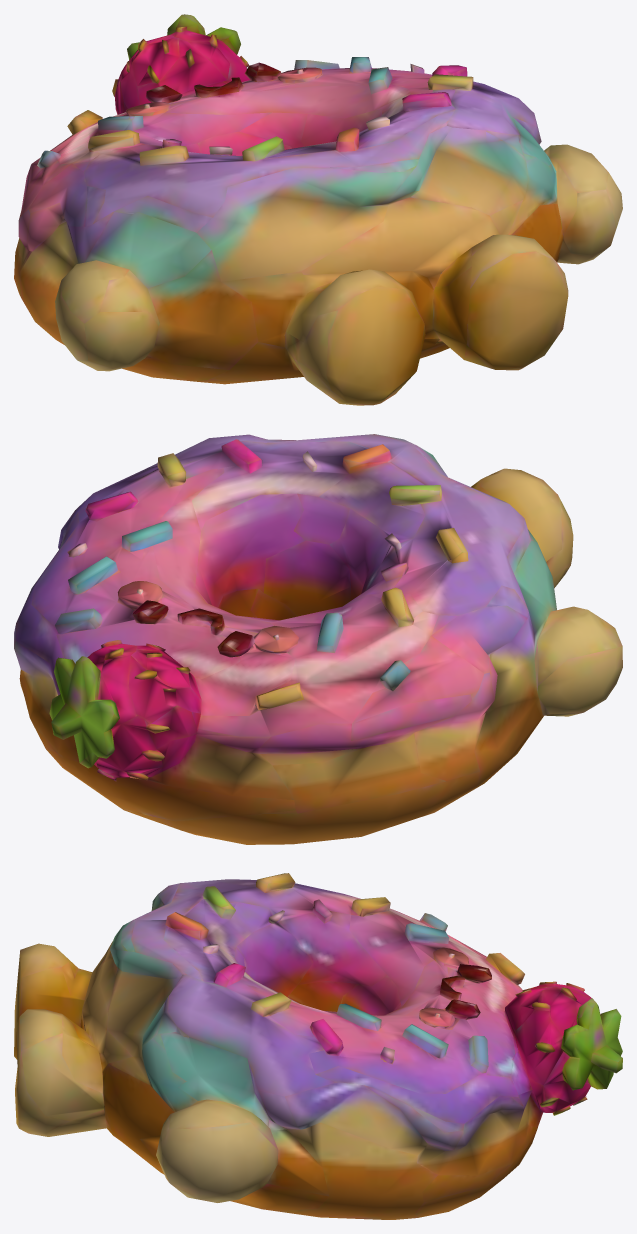
The picture shows the model from 3 angles, top to bottom: view 1: azimuth 30°, elevation 25°; view 2: azimuth 150°, elevation 25°; view 3: azimuth 270°, elevation 25°; orthographic projection. The views are drawn at different scales.
Visible parts, largest first — view 1: material; view 2: material; view 3: material.
Boxes of the visible parts, box(x1,y1,x2,y2) form: material: box(14, 14, 622, 405); material: box(14, 434, 622, 844); material: box(14, 873, 622, 1219).
Bounding box in the file's own units: 0.937 × 0.4581 × 1.
Materials: 1 (1 with a texture image).
